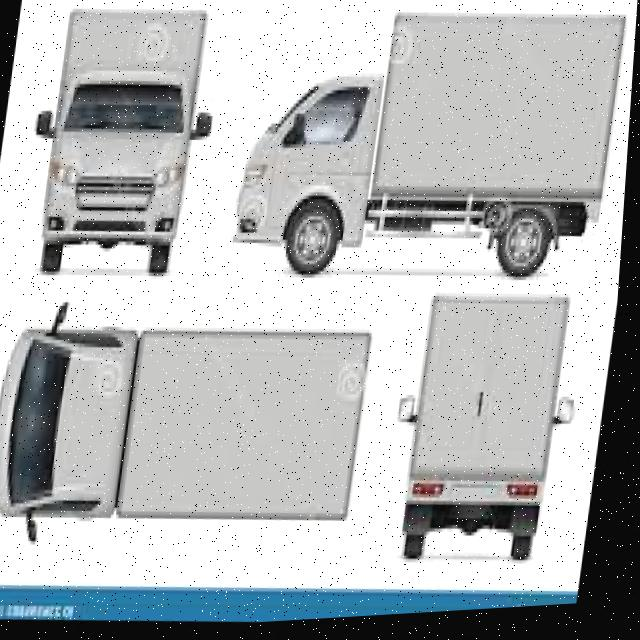truck: (0, 293, 387, 549)
